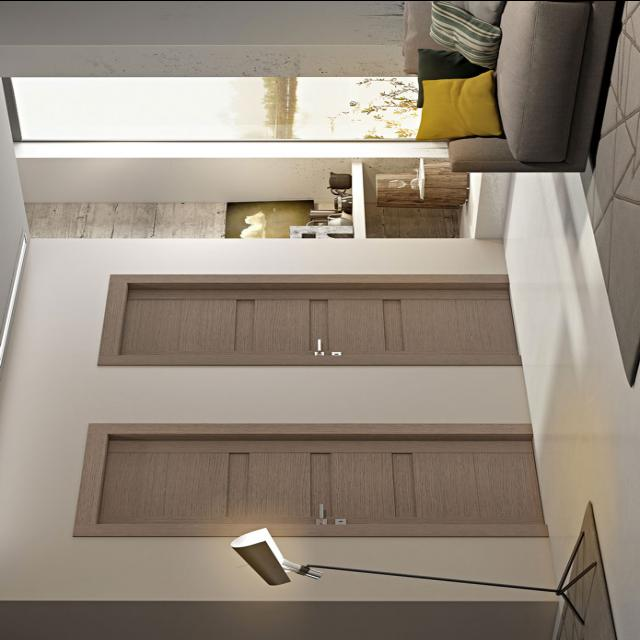close: (110, 432, 546, 534), (118, 276, 518, 364)
